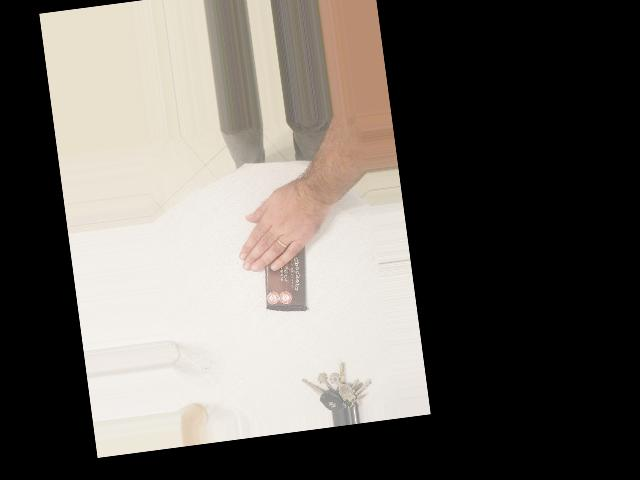chocolate: (247, 202, 318, 320)
